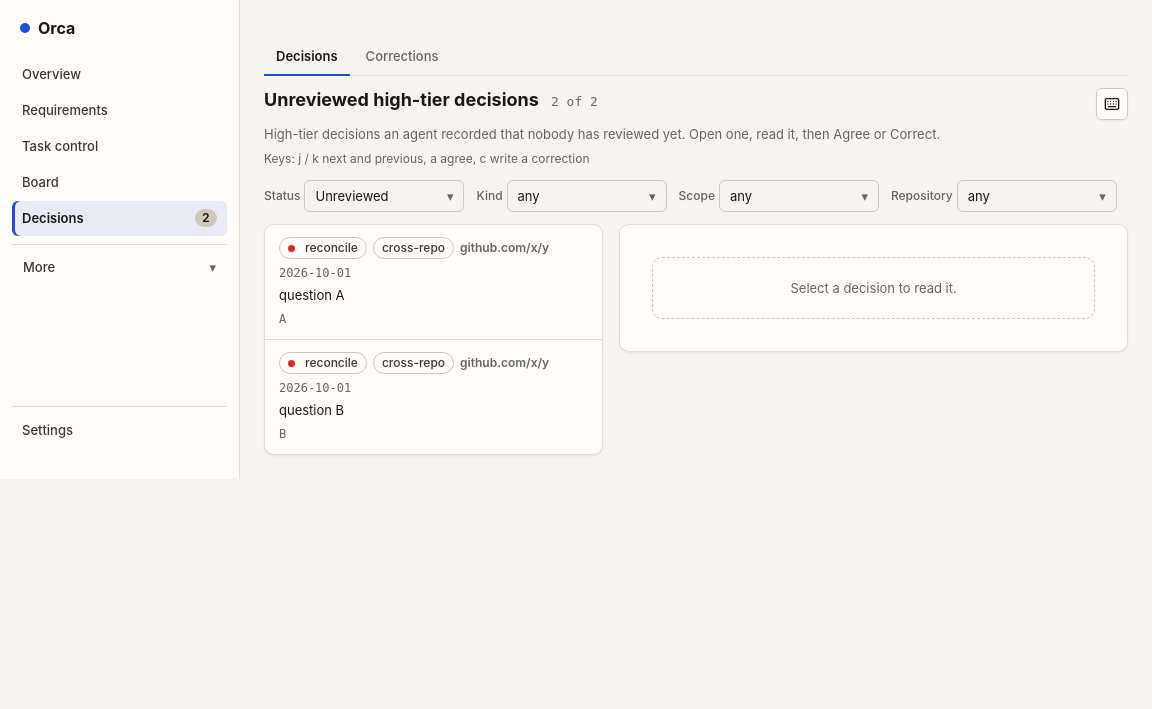
the decision review loop › shows the error page instead of crashing when a read fails while Decisions is open (Review Focus 1)
Click the button "reconcile cross-repo github.com/x/y 2026-10-01 question A A": (323, 248) [265,225,602,339]
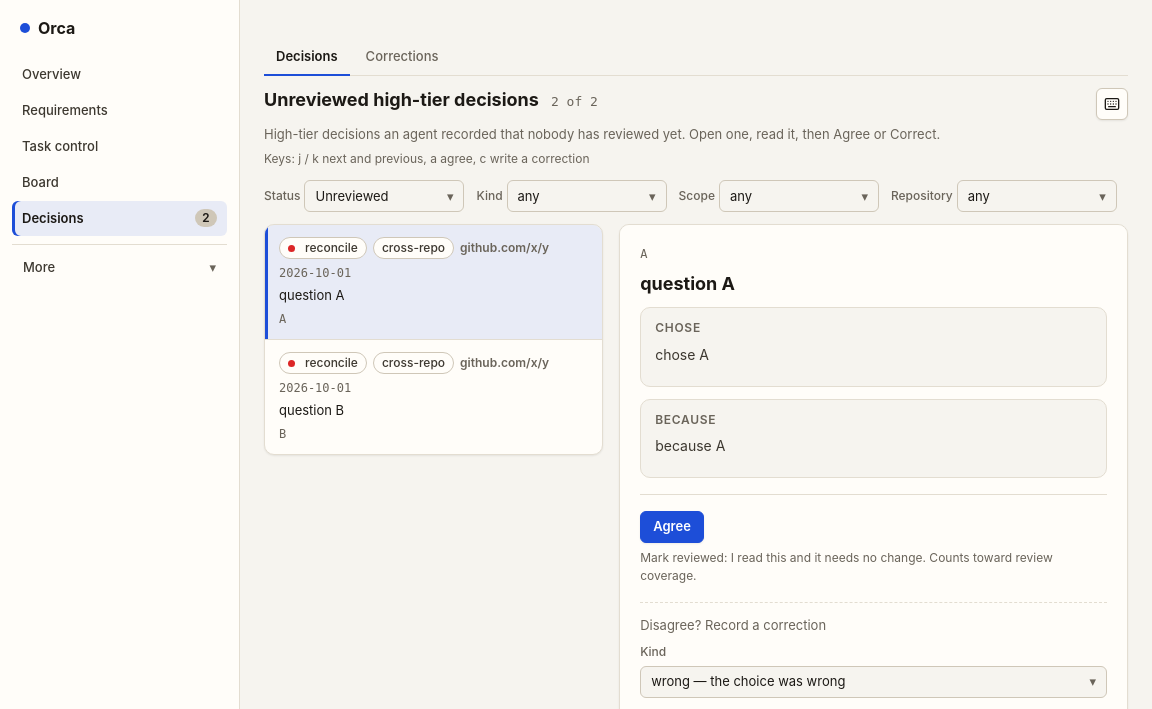
Check: the text "question A" is shown, box [279,288,345,304]
Click the button "reconcile cross-repo github.com/x/y 2026-10-01 question B B": (323, 363) [265,340,602,454]
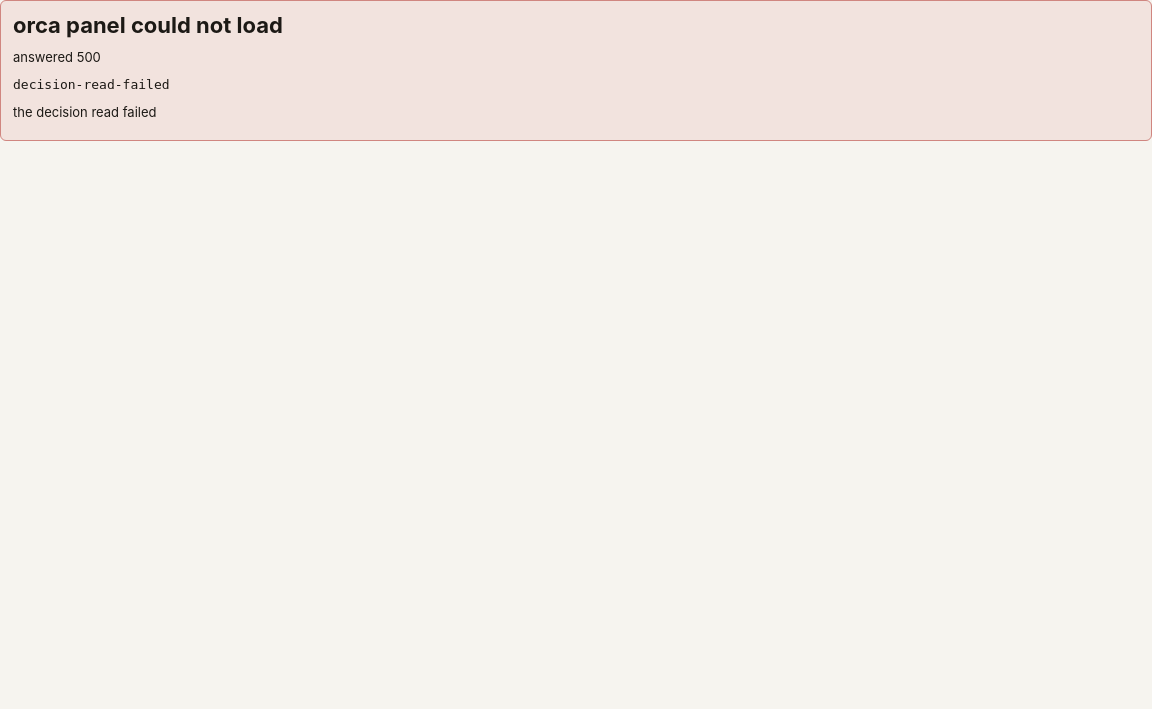
Check: the text with test id "error-code" reads "decision-read-failed", box [13,77,170,92]
